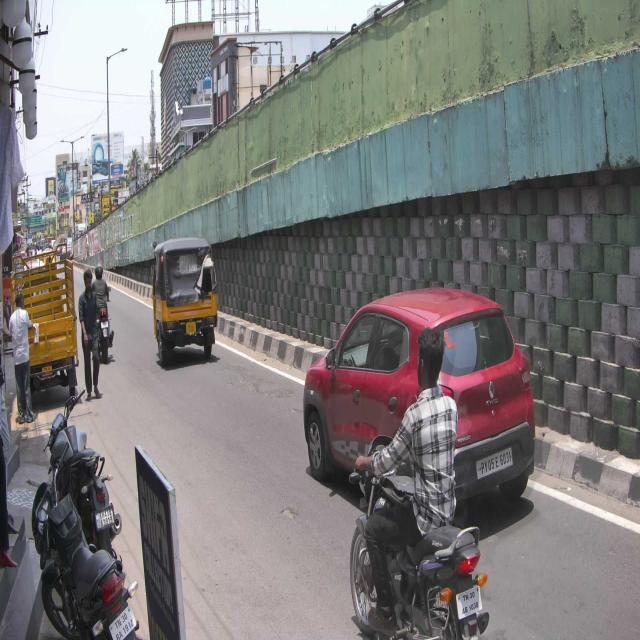single_rider: (346, 323, 490, 640)
